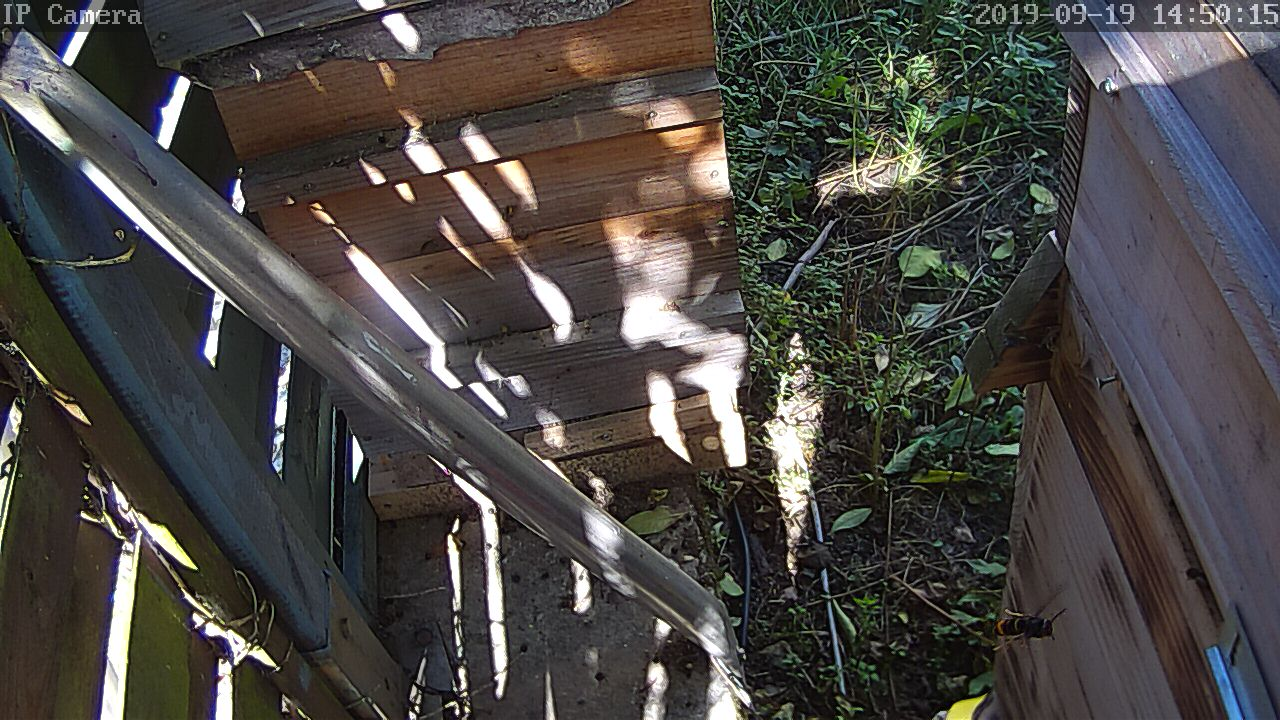bee: (1176, 557, 1212, 591)
hornet: (989, 603, 1060, 649)
